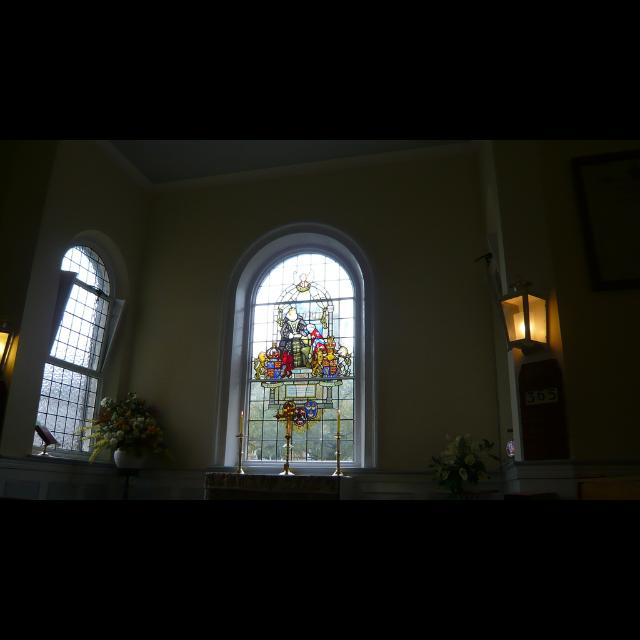Flower: (76, 394, 166, 458), (434, 437, 496, 481), (110, 437, 118, 445)
